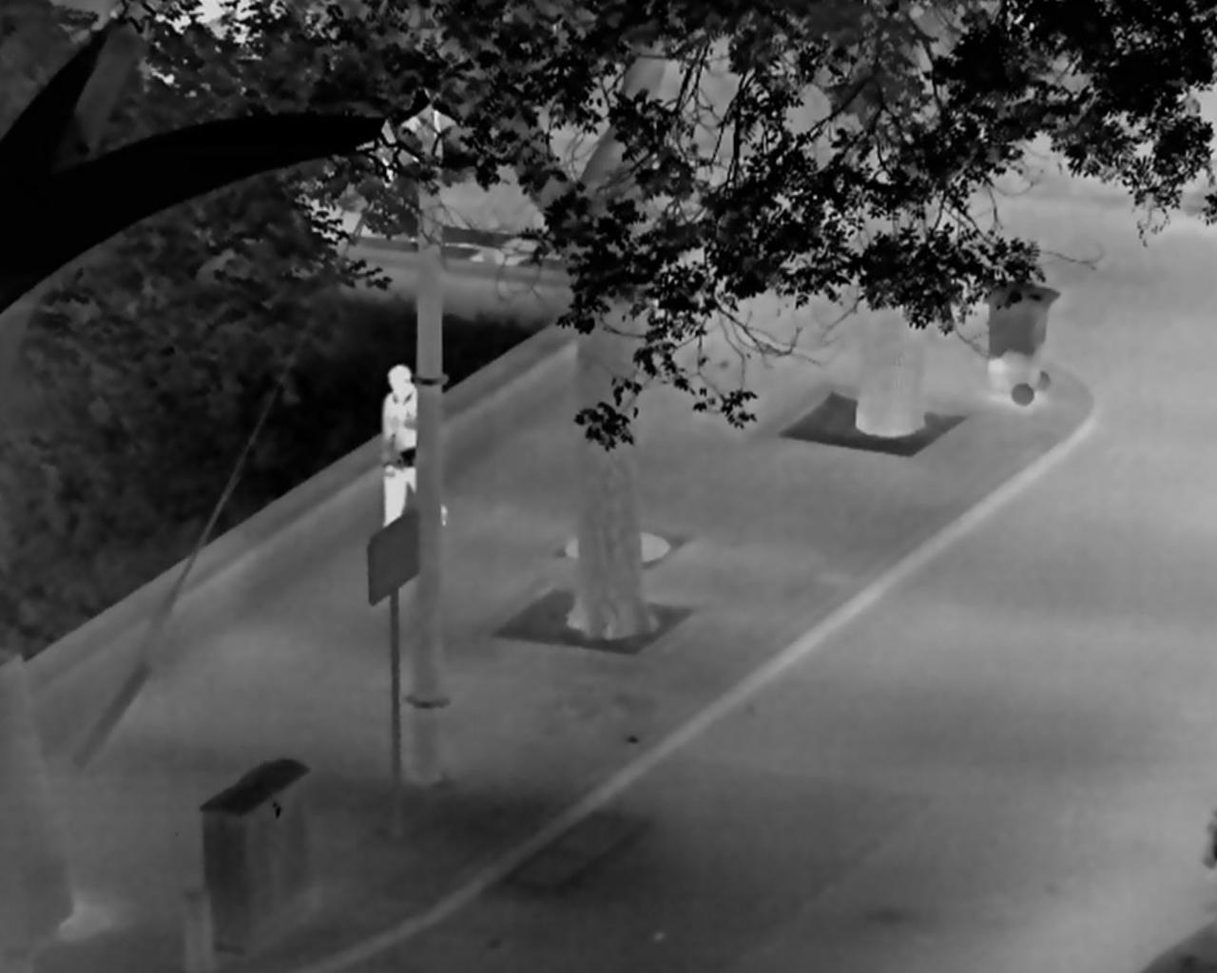person: (379, 362, 452, 539)
